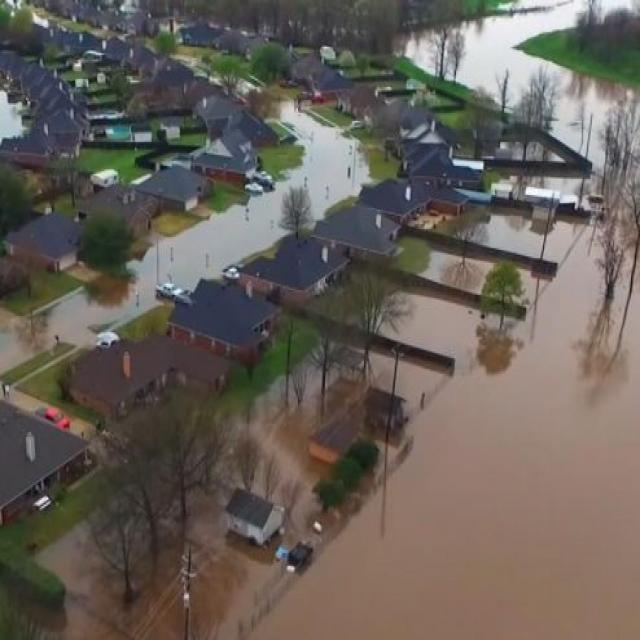flood: (189, 206, 640, 640), (0, 100, 370, 370), (459, 2, 640, 168), (37, 532, 179, 640), (426, 250, 494, 290), (405, 30, 435, 72), (0, 93, 20, 136)
house: (2, 383, 92, 538), (68, 336, 232, 421), (170, 270, 273, 373), (9, 210, 80, 280), (127, 158, 205, 220), (317, 204, 398, 263), (240, 254, 337, 300), (225, 487, 285, 546), (362, 177, 430, 224), (198, 134, 256, 185), (404, 140, 457, 180), (362, 386, 408, 432), (202, 92, 240, 135), (46, 116, 84, 158), (34, 78, 72, 115), (312, 65, 352, 100), (157, 57, 196, 91), (340, 84, 374, 118), (177, 22, 214, 49), (70, 28, 98, 49), (104, 36, 130, 58), (161, 117, 183, 141), (131, 122, 153, 142)
